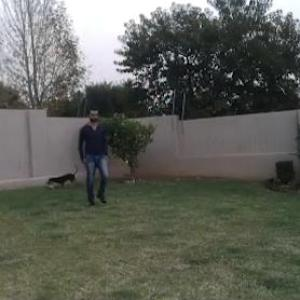follow: (79, 105, 108, 205)
